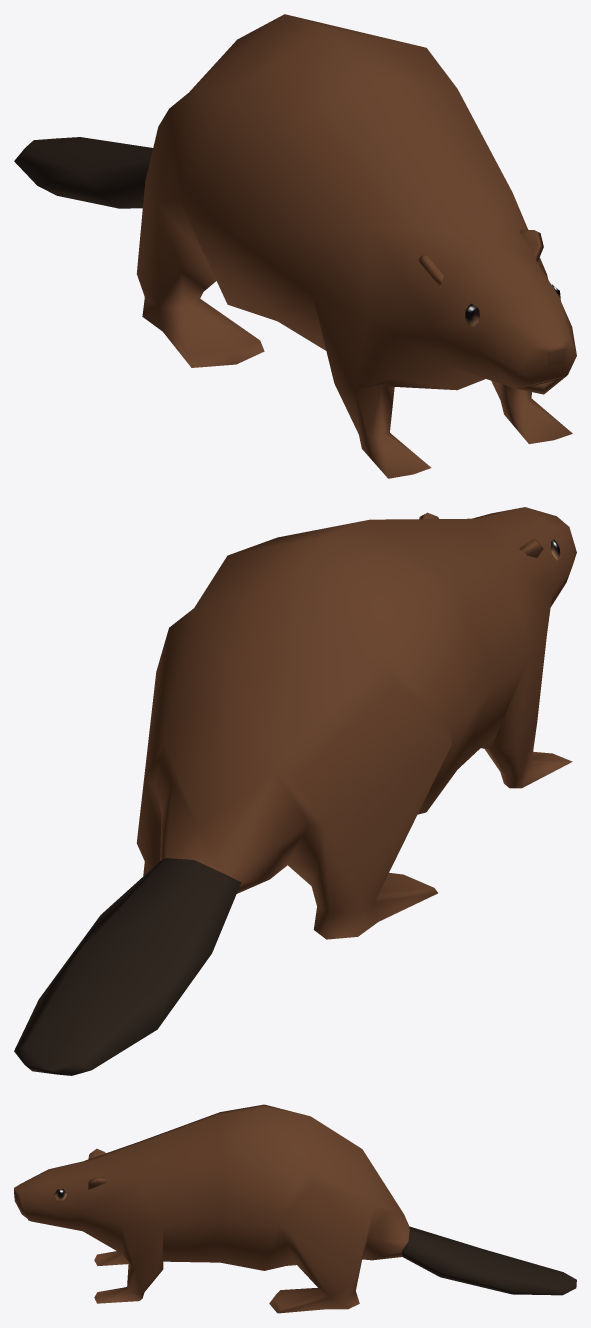
3 views of the same model, one above another, from view 1: azimuth 30°, elevation 25°; view 2: azimuth 150°, elevation 25°; view 3: azimuth 270°, elevation 25° (orthographic). The views are drawn at different scales.
Parts seen in each view (by area): view 1: Beaver01; view 2: Beaver01; view 3: Beaver01.
Part boxes in pixels (bbox=[...]): Beaver01: bbox=[14, 14, 576, 478]; Beaver01: bbox=[14, 507, 576, 1075]; Beaver01: bbox=[14, 1104, 576, 1313].
Size of what is drawn, in the model's own units: 0.5062 by 0.5453 by 1.53.
Materials: 1 (1 with a texture image).
